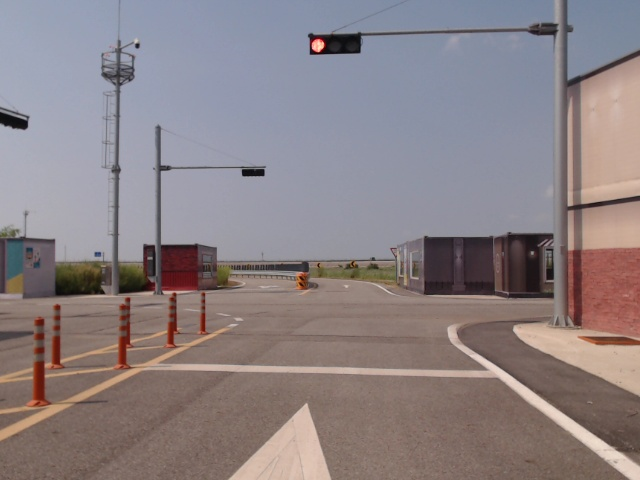red_3: (310, 36, 361, 55)
